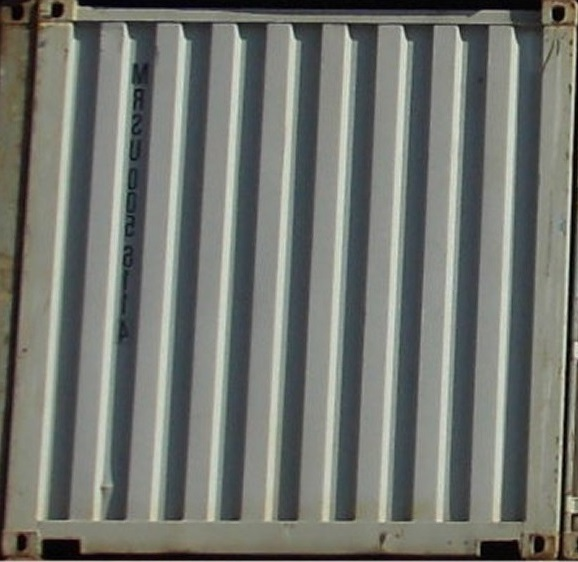container_no_door: (39, 2, 558, 556)
